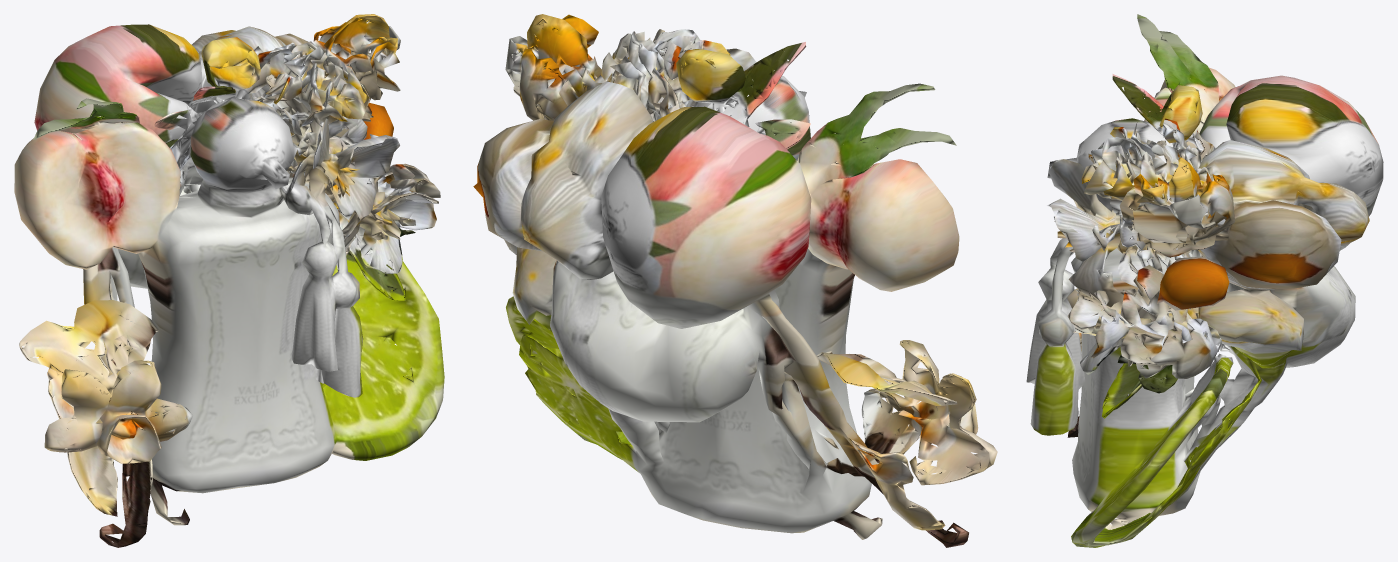
Rendered from hero-bottle.glb.
3 views of the same model, side by side, from view 1: azimuth 30°, elevation 25°; view 2: azimuth 150°, elevation 25°; view 3: azimuth 270°, elevation 25° (orthographic). The views are drawn at different scales.
Visible parts, largest first — view 1: hero; view 2: hero; view 3: hero.
Boxes of the visible parts, bbox=[...] form: hero: bbox=[14, 14, 444, 547]; hero: bbox=[473, 14, 997, 547]; hero: bbox=[1026, 14, 1383, 547].
Bounding box in the file's own units: 1.95 × 1.97 × 1.5.
Materials: 1 (1 with a texture image).
